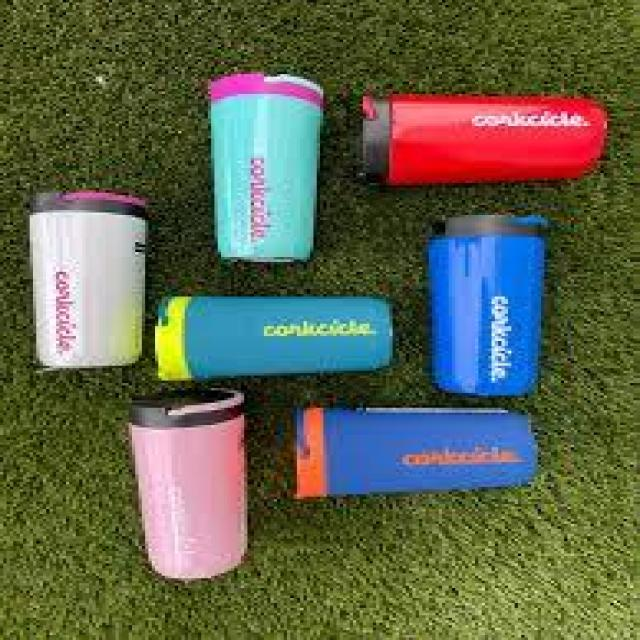bottle: (120, 408, 276, 588), (426, 214, 554, 394), (358, 95, 609, 184), (292, 408, 536, 497), (211, 73, 323, 263), (152, 294, 389, 383), (35, 191, 146, 367)
